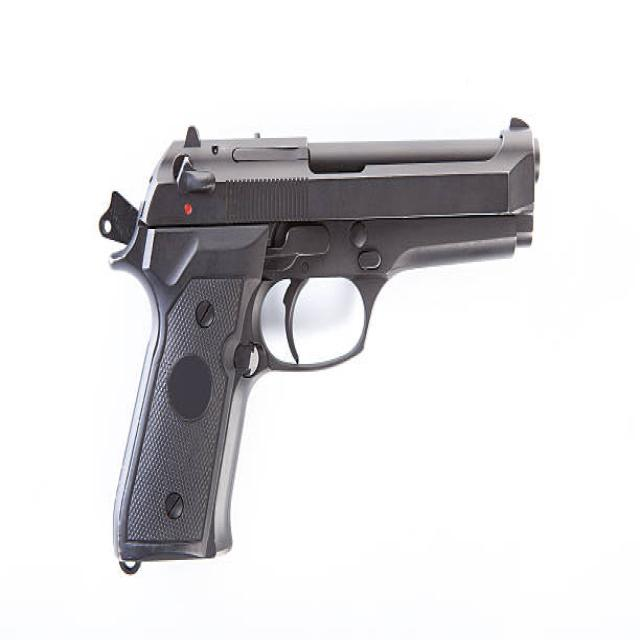pistol: (89, 108, 552, 584)
